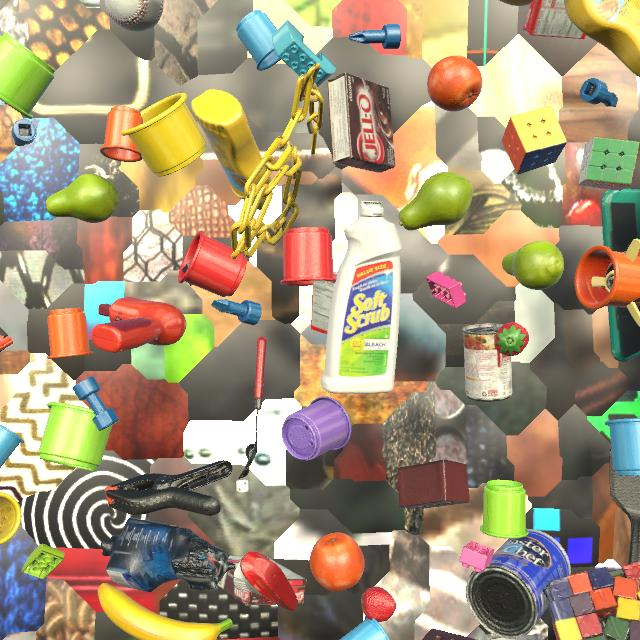ycb_002_master_chef_can: (466, 529, 571, 639)
ycb_005_tomato_soup_can: (462, 323, 512, 402)
ycb_006_mustard_bottle: (191, 89, 271, 210), (564, 0, 640, 78), (499, 0, 533, 6)
ycb_008_pudding_box: (327, 72, 395, 173), (217, 555, 307, 606)
ycb_009_gelatin_box: (523, 0, 586, 39), (311, 271, 337, 335)
ycb_011_banana: (98, 583, 233, 640)
ycb_012_strawberry: (361, 586, 396, 622), (494, 322, 529, 356)
ycb_016_pear: (399, 172, 473, 230), (46, 174, 120, 223), (502, 241, 564, 290)
ycb_017_orange: (310, 533, 365, 592), (427, 55, 482, 112)
